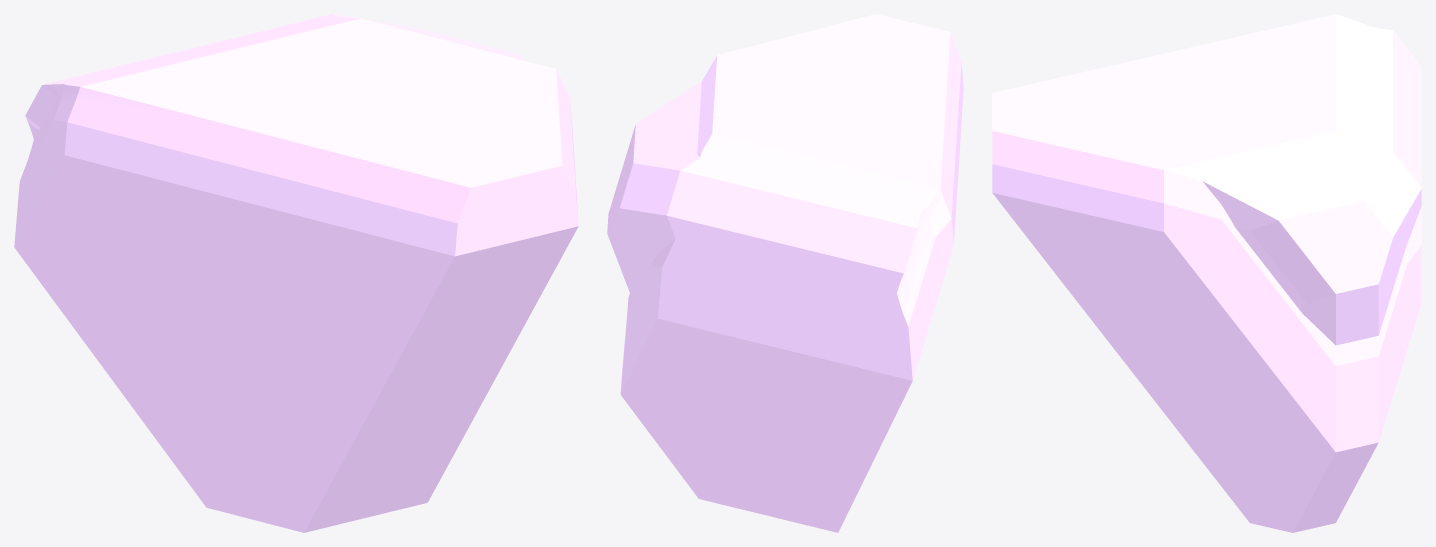
The model's file is associahedron.glb.
3 views of the same model, side by side, from view 1: azimuth 30°, elevation 25°; view 2: azimuth 150°, elevation 25°; view 3: azimuth 270°, elevation 25° (orthographic). The views are drawn at different scales.
Parts seen in each view (by area): view 1: AssoN6_Proj00, AssoN6_Proj03, AssoN6_Proj04, AssoN6_Proj22, AssoN6_Proj01, AssoN6_Proj08, AssoN6_Proj11, AssoN6_Proj16, AssoN6_Proj06, AssoN6_Proj23, AssoN6_Proj02, AssoN6_Proj18 (+10 smaller); view 2: AssoN6_Proj00, AssoN6_Proj05, AssoN6_Proj01, AssoN6_Proj02, AssoN6_Proj03, AssoN6_Proj13, AssoN6_Proj15, AssoN6_Proj08, AssoN6_Proj04, AssoN6_Proj10, AssoN6_Proj20, AssoN6_Proj23 (+11 smaller); view 3: AssoN6_Proj23, AssoN6_Proj00, AssoN6_Proj17, AssoN6_Proj07, AssoN6_Proj14, AssoN6_Proj19, AssoN6_Proj12, AssoN6_Proj06, AssoN6_Proj04, AssoN6_Proj13, AssoN6_Proj09, AssoN6_Proj01 (+11 smaller).
Boxes of the visible parts, x1,y1,x2,y2 form: AssoN6_Proj00: [14, 14, 540, 532]; AssoN6_Proj03: [30, 16, 541, 524]; AssoN6_Proj04: [32, 23, 540, 529]; AssoN6_Proj22: [26, 18, 575, 512]; AssoN6_Proj01: [26, 18, 540, 254]; AssoN6_Proj08: [170, 23, 541, 515]; AssoN6_Proj11: [56, 66, 541, 524]; AssoN6_Proj16: [48, 20, 556, 520]; AssoN6_Proj06: [74, 17, 541, 514]; AssoN6_Proj23: [25, 17, 578, 503]; AssoN6_Proj02: [28, 15, 540, 531]; AssoN6_Proj18: [33, 20, 563, 511]; AssoN6_Proj00: [607, 19, 963, 532]; AssoN6_Proj05: [673, 18, 942, 529]; AssoN6_Proj01: [668, 19, 948, 532]; AssoN6_Proj02: [670, 20, 947, 531]; AssoN6_Proj03: [674, 18, 946, 418]; AssoN6_Proj13: [666, 18, 933, 358]; AssoN6_Proj15: [653, 17, 919, 379]; AssoN6_Proj08: [656, 25, 939, 438]; AssoN6_Proj04: [676, 18, 944, 477]; AssoN6_Proj10: [650, 21, 936, 508]; AssoN6_Proj20: [626, 15, 931, 501]; AssoN6_Proj23: [620, 14, 916, 519]; AssoN6_Proj23: [992, 31, 1421, 532]; AssoN6_Proj00: [992, 14, 1421, 345]; AssoN6_Proj17: [992, 19, 1413, 167]; AssoN6_Proj07: [992, 24, 1421, 173]; AssoN6_Proj14: [992, 30, 1420, 165]; AssoN6_Proj19: [992, 28, 1421, 169]; AssoN6_Proj12: [996, 20, 1421, 164]; AssoN6_Proj06: [992, 17, 1421, 179]; AssoN6_Proj04: [1000, 15, 1417, 160]; AssoN6_Proj13: [993, 18, 1421, 176]; AssoN6_Proj09: [993, 17, 1421, 163]; AssoN6_Proj01: [993, 14, 1421, 186].
Size of the model in its own units: 11.91 by 12.12 by 12.25.
